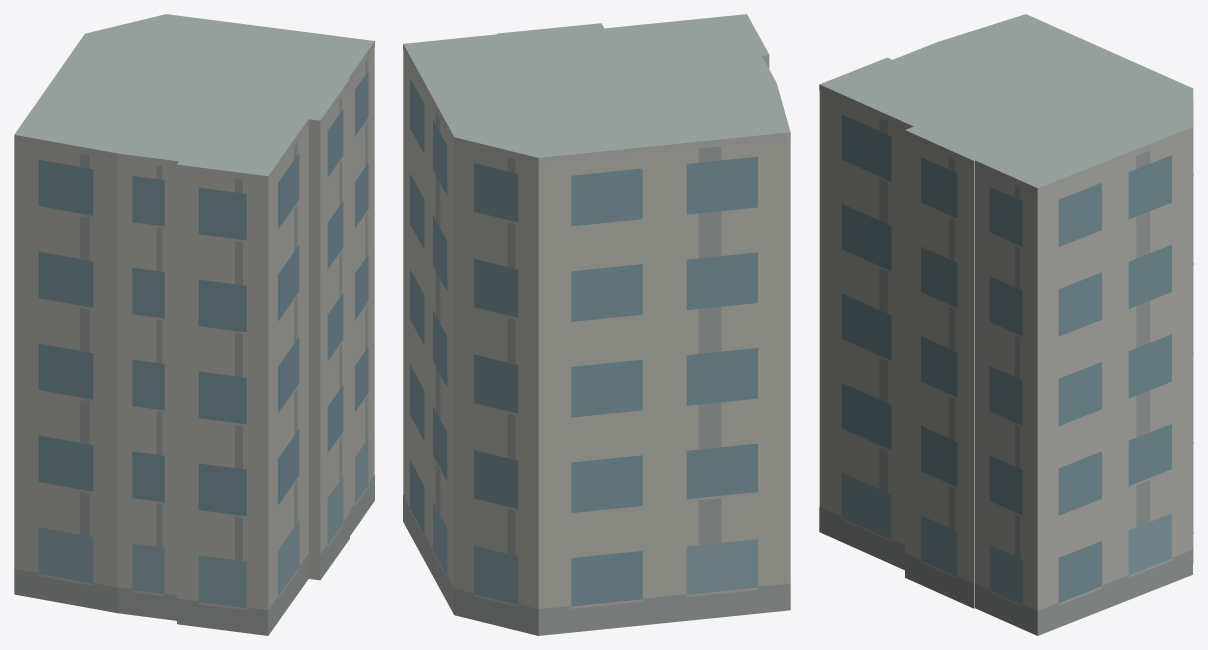
The model's file is survey-upis-32502637.glb.
3 views of the same model, side by side, from view 1: azimuth 30°, elevation 25°; view 2: azimuth 150°, elevation 25°; view 3: azimuth 270°, elevation 25° (orthographic). The views are drawn at different scales.
Parts seen in each view (by area): view 1: survey-upis-32502637.tmp; view 2: survey-upis-32502637.tmp; view 3: survey-upis-32502637.tmp.
Boxes of the visible parts, x1,y1,x2,y2 form: survey-upis-32502637.tmp: (14, 14, 374, 635); survey-upis-32502637.tmp: (403, 14, 790, 635); survey-upis-32502637.tmp: (819, 14, 1193, 635).
Bounding box in the file's own units: 13.86 × 16.6 × 12.58.
